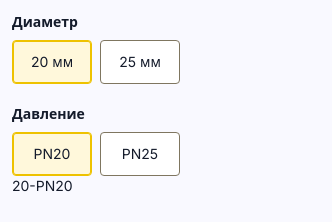
Test: VariantSelector › selects an available variant
The width and height of the screenshot is (332, 222).
Click the radio button labelled "25 мм" at (140, 62), box [100,40,180,84]
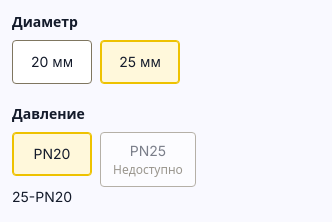
Expected: the radio button labelled "25 мм" is checked, [100,40,180,84]
Expected: the text named "Выбранный артикул" reads "25-PN20", [12,188,72,205]
